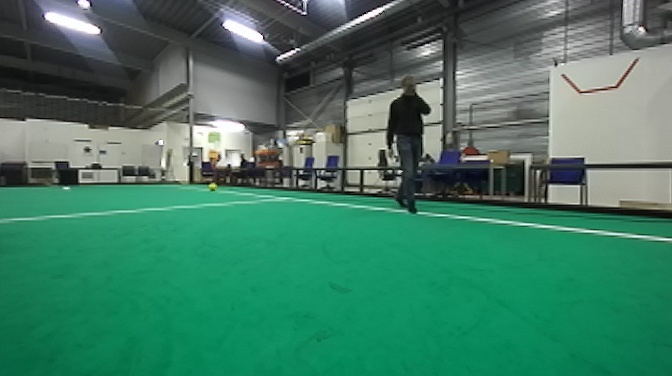ball: (208, 181, 218, 192)
human: (384, 73, 435, 221)
